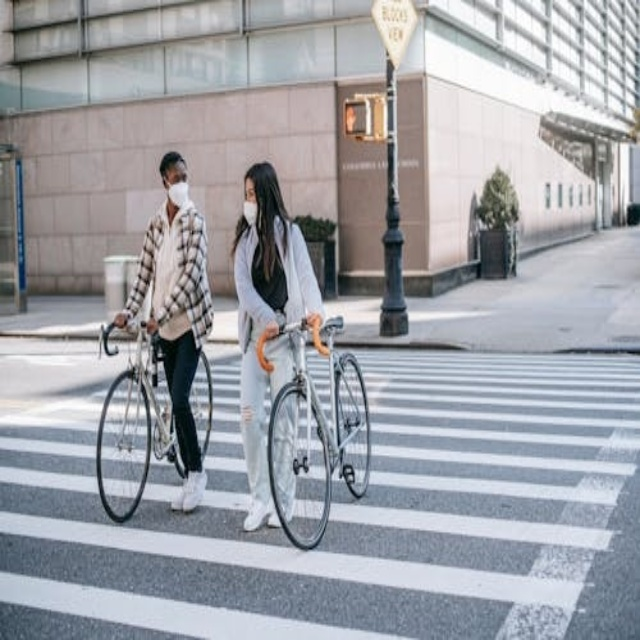Mascara: (167, 180, 190, 208), (243, 200, 259, 227)
Sin_gafas: (169, 163, 189, 179), (243, 183, 256, 198)
